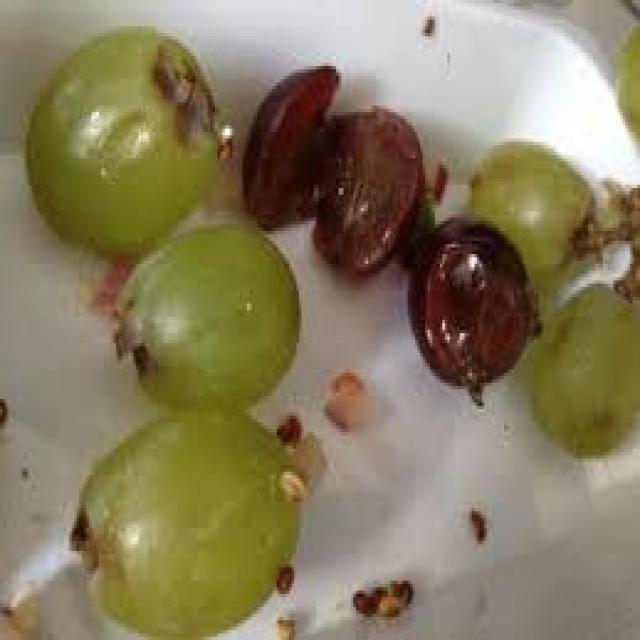Grapes: (50, 413, 314, 640), (35, 37, 208, 238), (112, 240, 315, 402), (471, 146, 595, 291), (420, 233, 523, 384), (541, 300, 640, 455)
